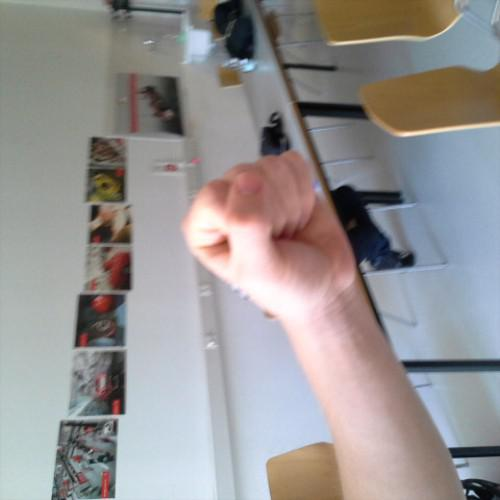rock: (178, 142, 378, 322)
